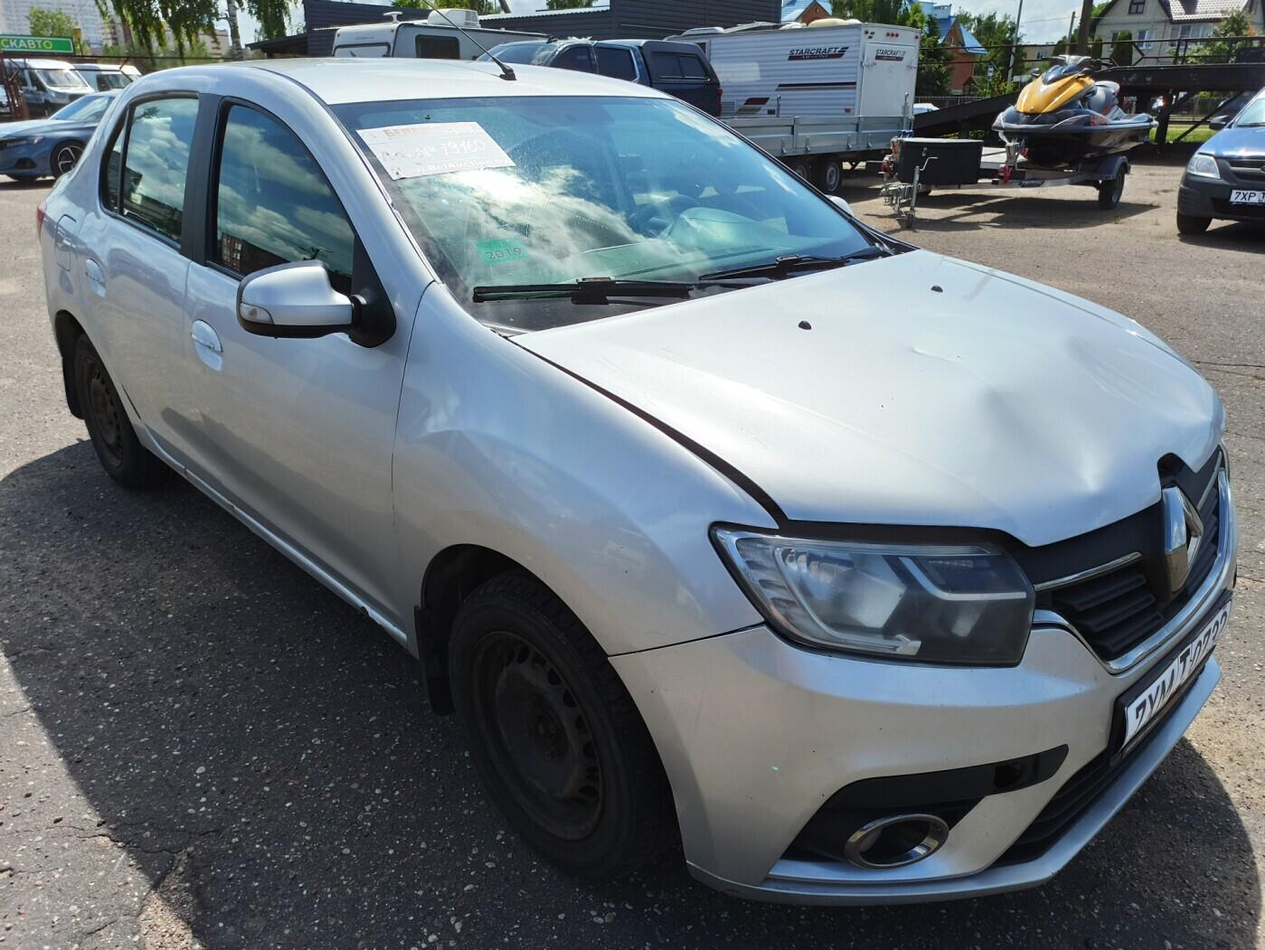Logan_2018: (34, 39, 1240, 926)
